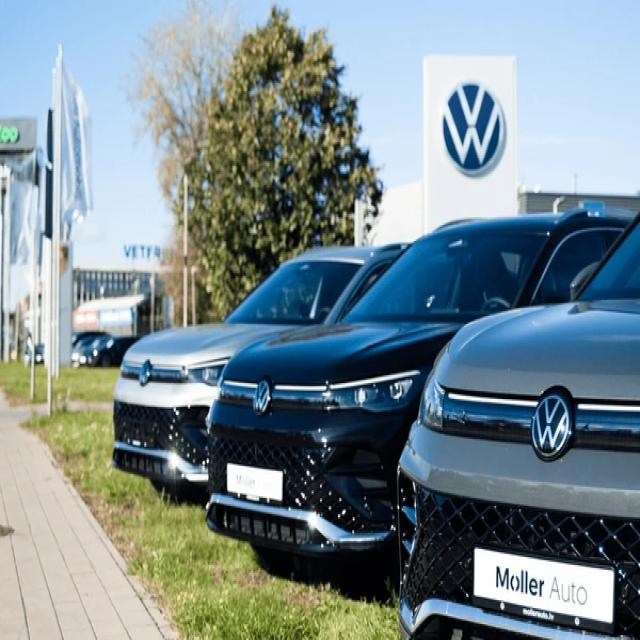wolksvogen: (435, 73, 515, 183), (526, 387, 578, 466), (247, 381, 278, 417)
